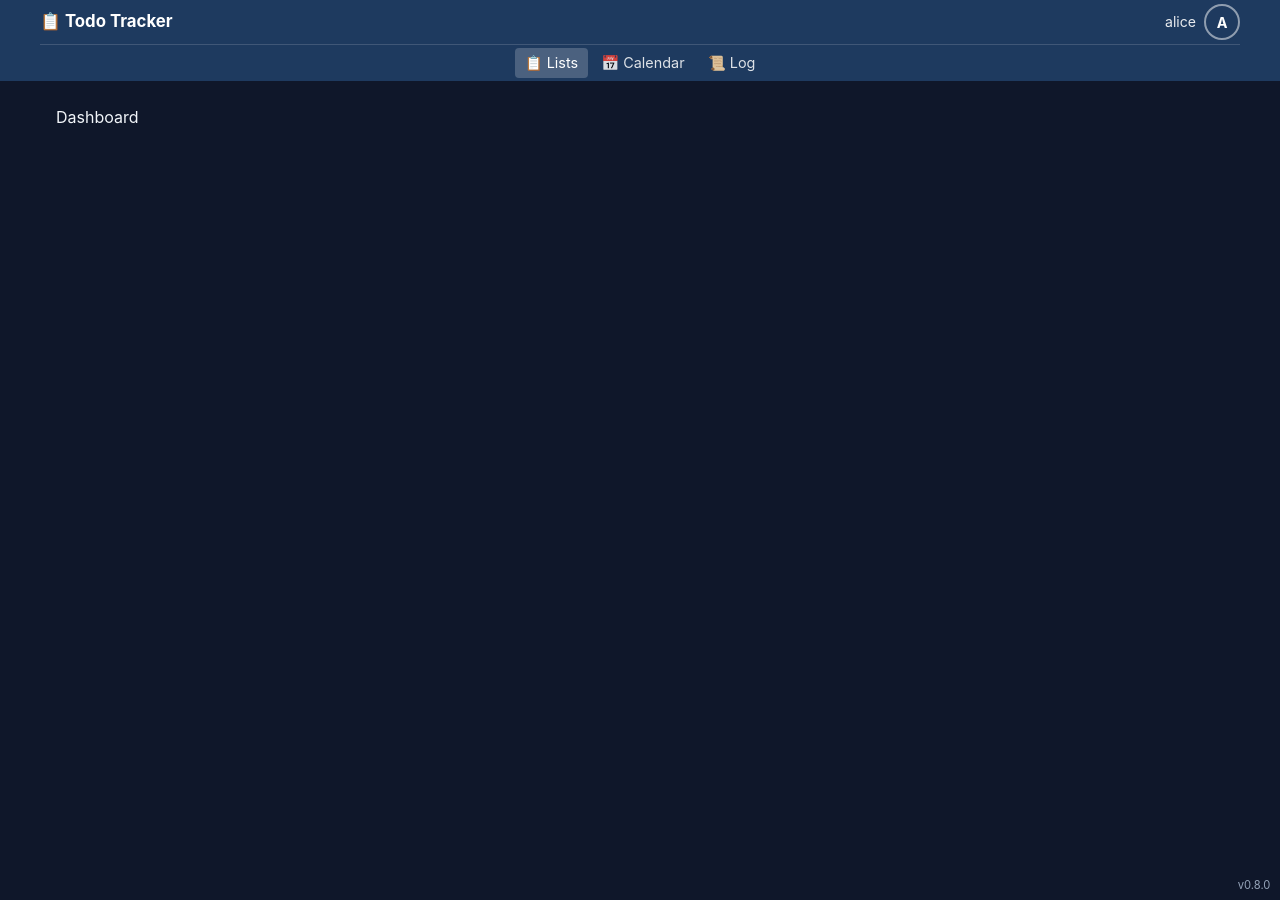
App.vue › avatar dropdown shows logout and profile
Note: Open avatar dropdown
What coordinates should you click on to do the following:
click the button with class "avatar-btn"
I would click on:
 (1222, 22)
Its box is [1204,4,1240,40].
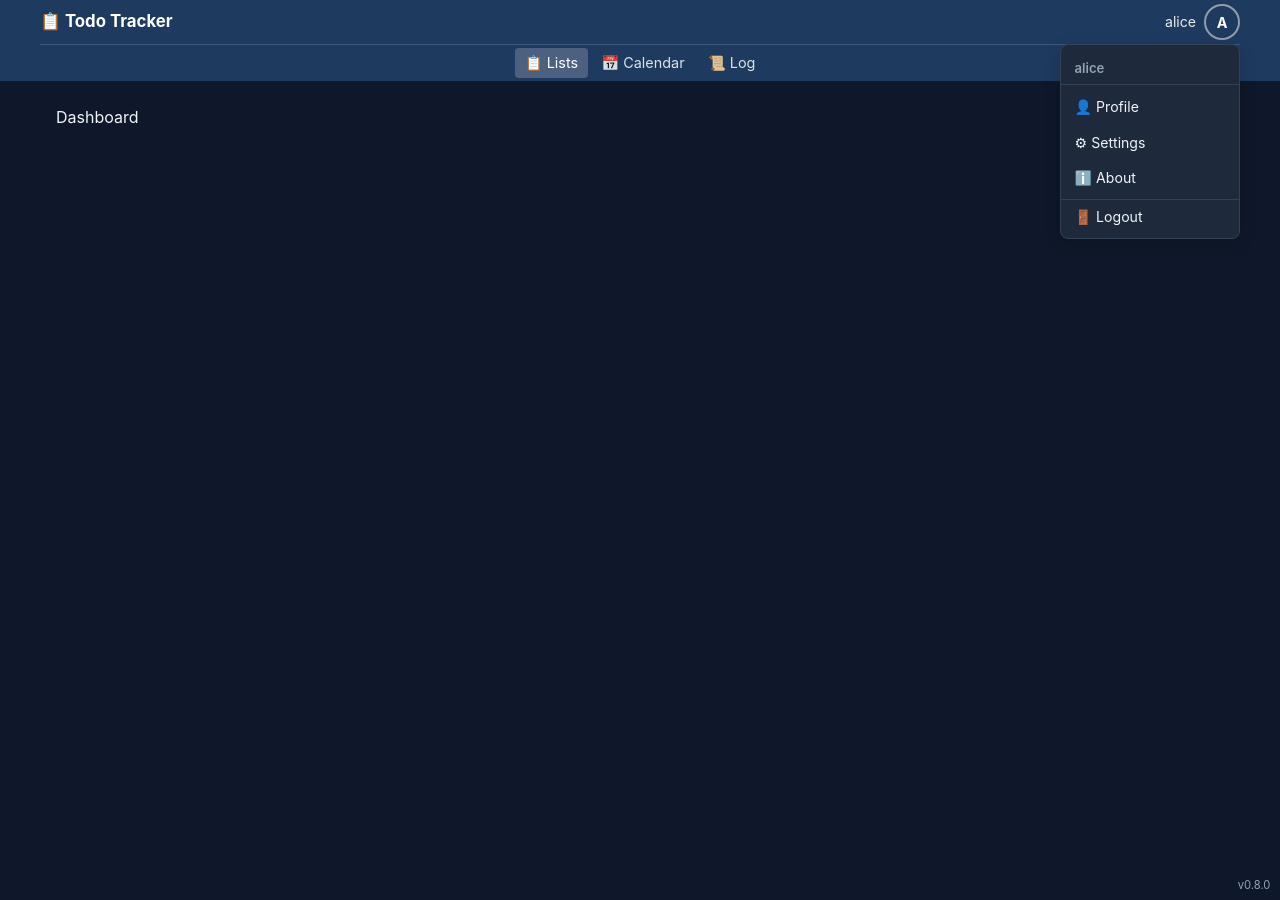
Now the element with class "avatar-dropdown" is shown, box [1060,44,1240,239]
Now the text "Logout" is shown, box [1061,199,1239,232]
Now the text "Profile" is shown, box [1075,98,1139,115]
